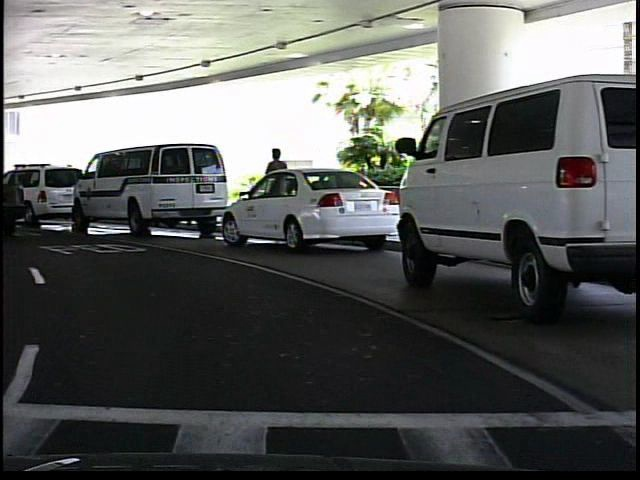person: (262, 144, 290, 228)
